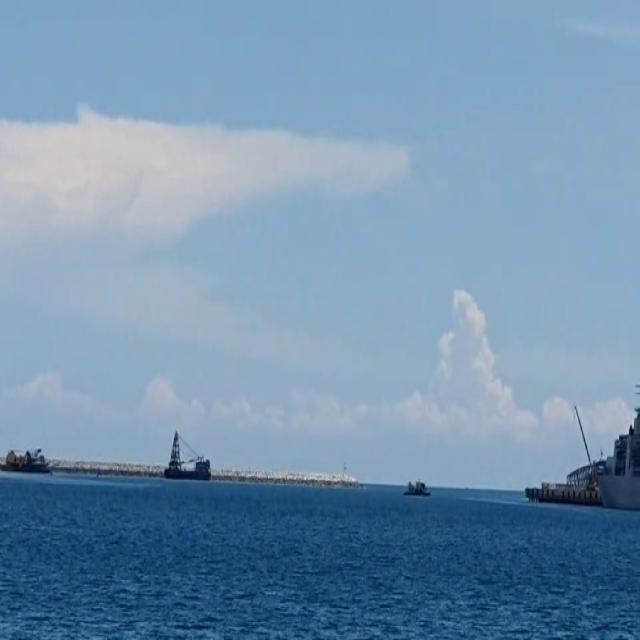civilianship: (156, 415, 221, 493)
